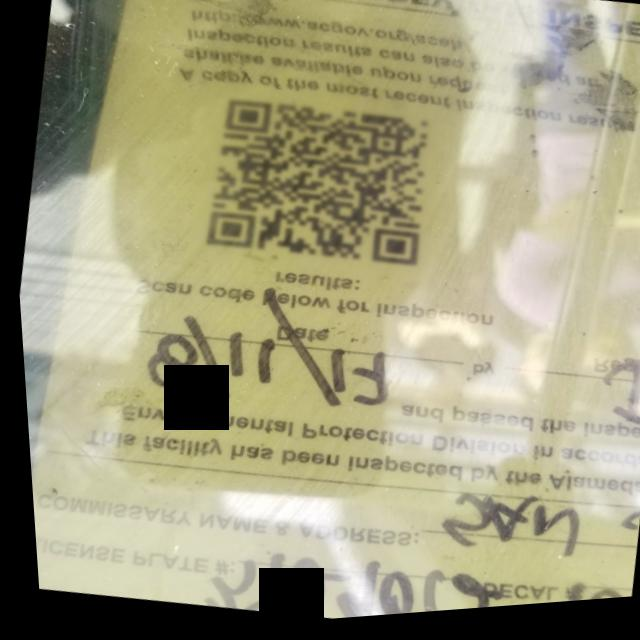QR_CODE: (175, 71, 452, 303)
